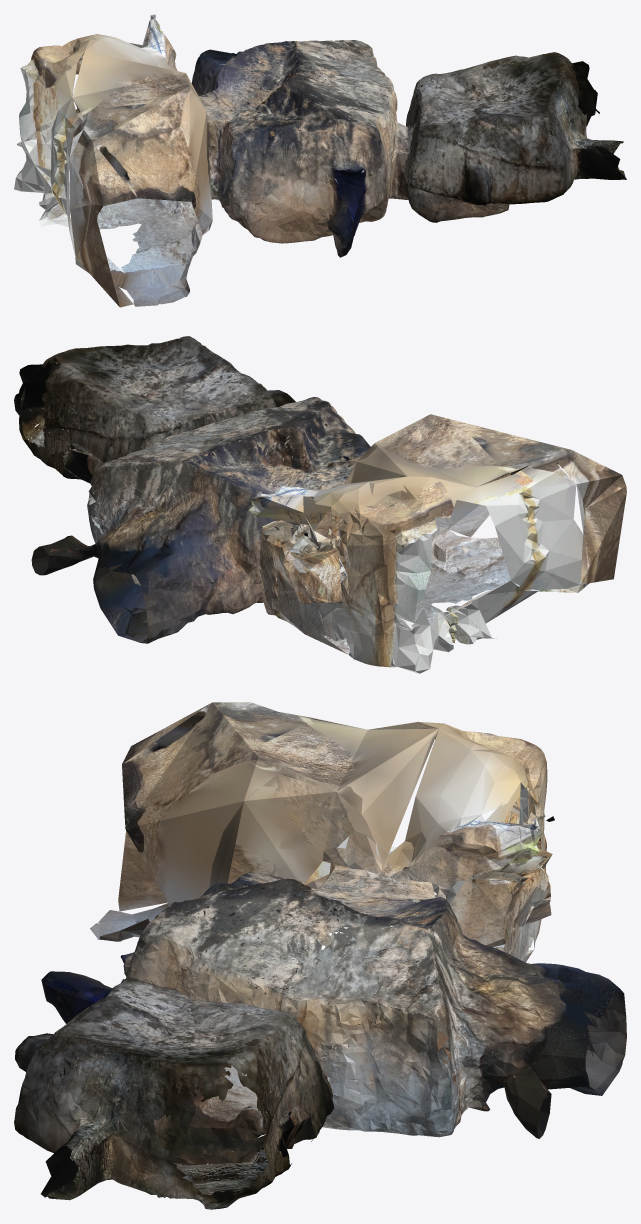
File: scan-cutrooms.glb
The picture shows the model from 3 angles, top to bottom: view 1: azimuth 30°, elevation 25°; view 2: azimuth 150°, elevation 25°; view 3: azimuth 270°, elevation 25°; orthographic projection. The views are drawn at different scales.
Visible parts, largest first — view 1: scan; view 2: scan; view 3: scan.
Boxes of the visible parts, x1,y1,x2,y2 form: scan: [14, 14, 626, 307]; scan: [14, 336, 626, 673]; scan: [14, 702, 626, 1209].
Bounding box in the file's own units: 38.98 × 12.07 × 27.14.
Materials: 2 (2 with a texture image).
